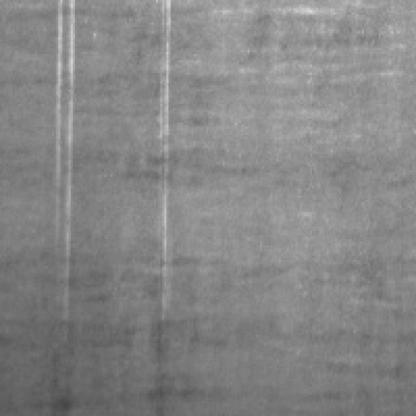scratches: (45, 0, 74, 264), (152, 0, 172, 291)
